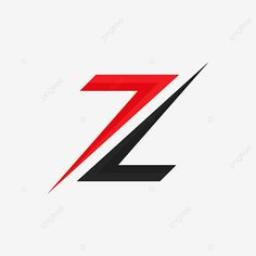z: (52, 50, 206, 202)
